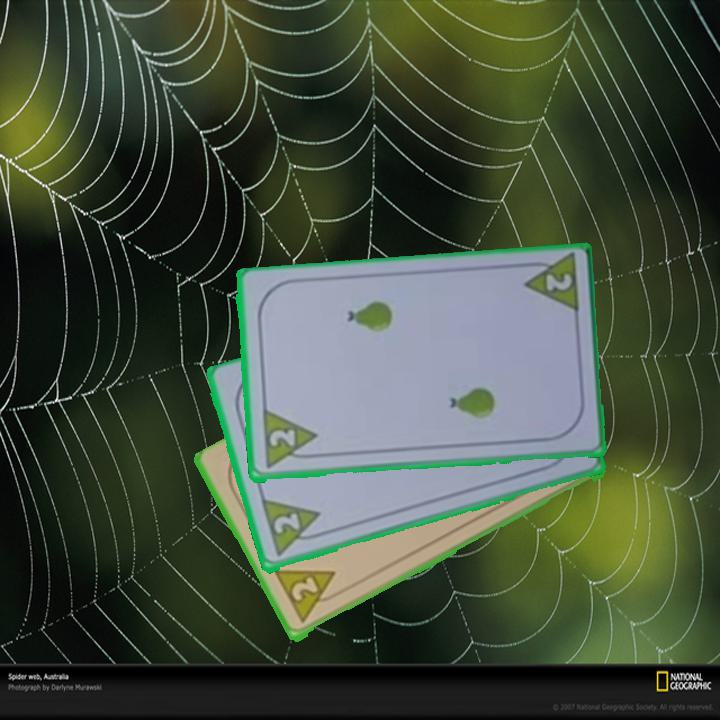2p: (271, 566, 346, 628), (257, 496, 328, 561), (518, 252, 582, 318), (258, 408, 321, 472)
